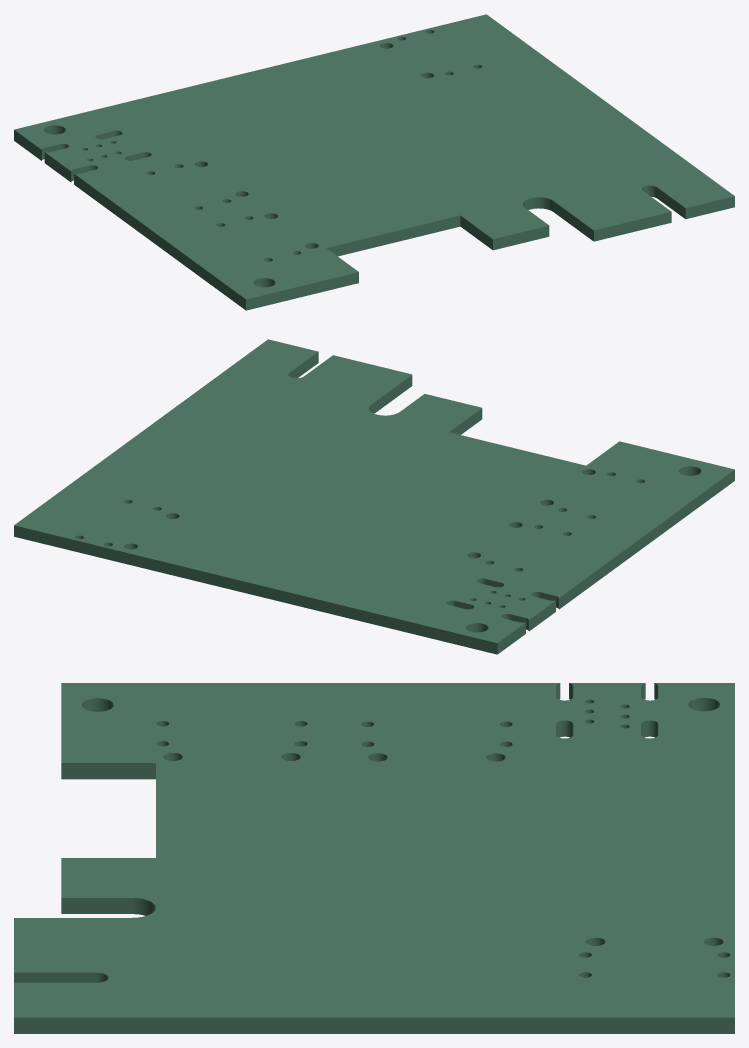
File: firewire-card.glb
The picture shows the model from 3 angles, top to bottom: view 1: azimuth 30°, elevation 25°; view 2: azimuth 150°, elevation 25°; view 3: azimuth 270°, elevation 25°; orthographic projection. The views are drawn at different scales.
Visible parts, largest first — view 1: =>[0:1:1:2]; view 2: =>[0:1:1:2]; view 3: =>[0:1:1:2].
Part boxes in pixels (x1,y1,x2,y2): =>[0:1:1:2]: [14, 14, 734, 310]; =>[0:1:1:2]: [14, 339, 734, 654]; =>[0:1:1:2]: [14, 683, 734, 1033].
Size of the model in its own units: 0.067 by 0.00151 by 0.061.
